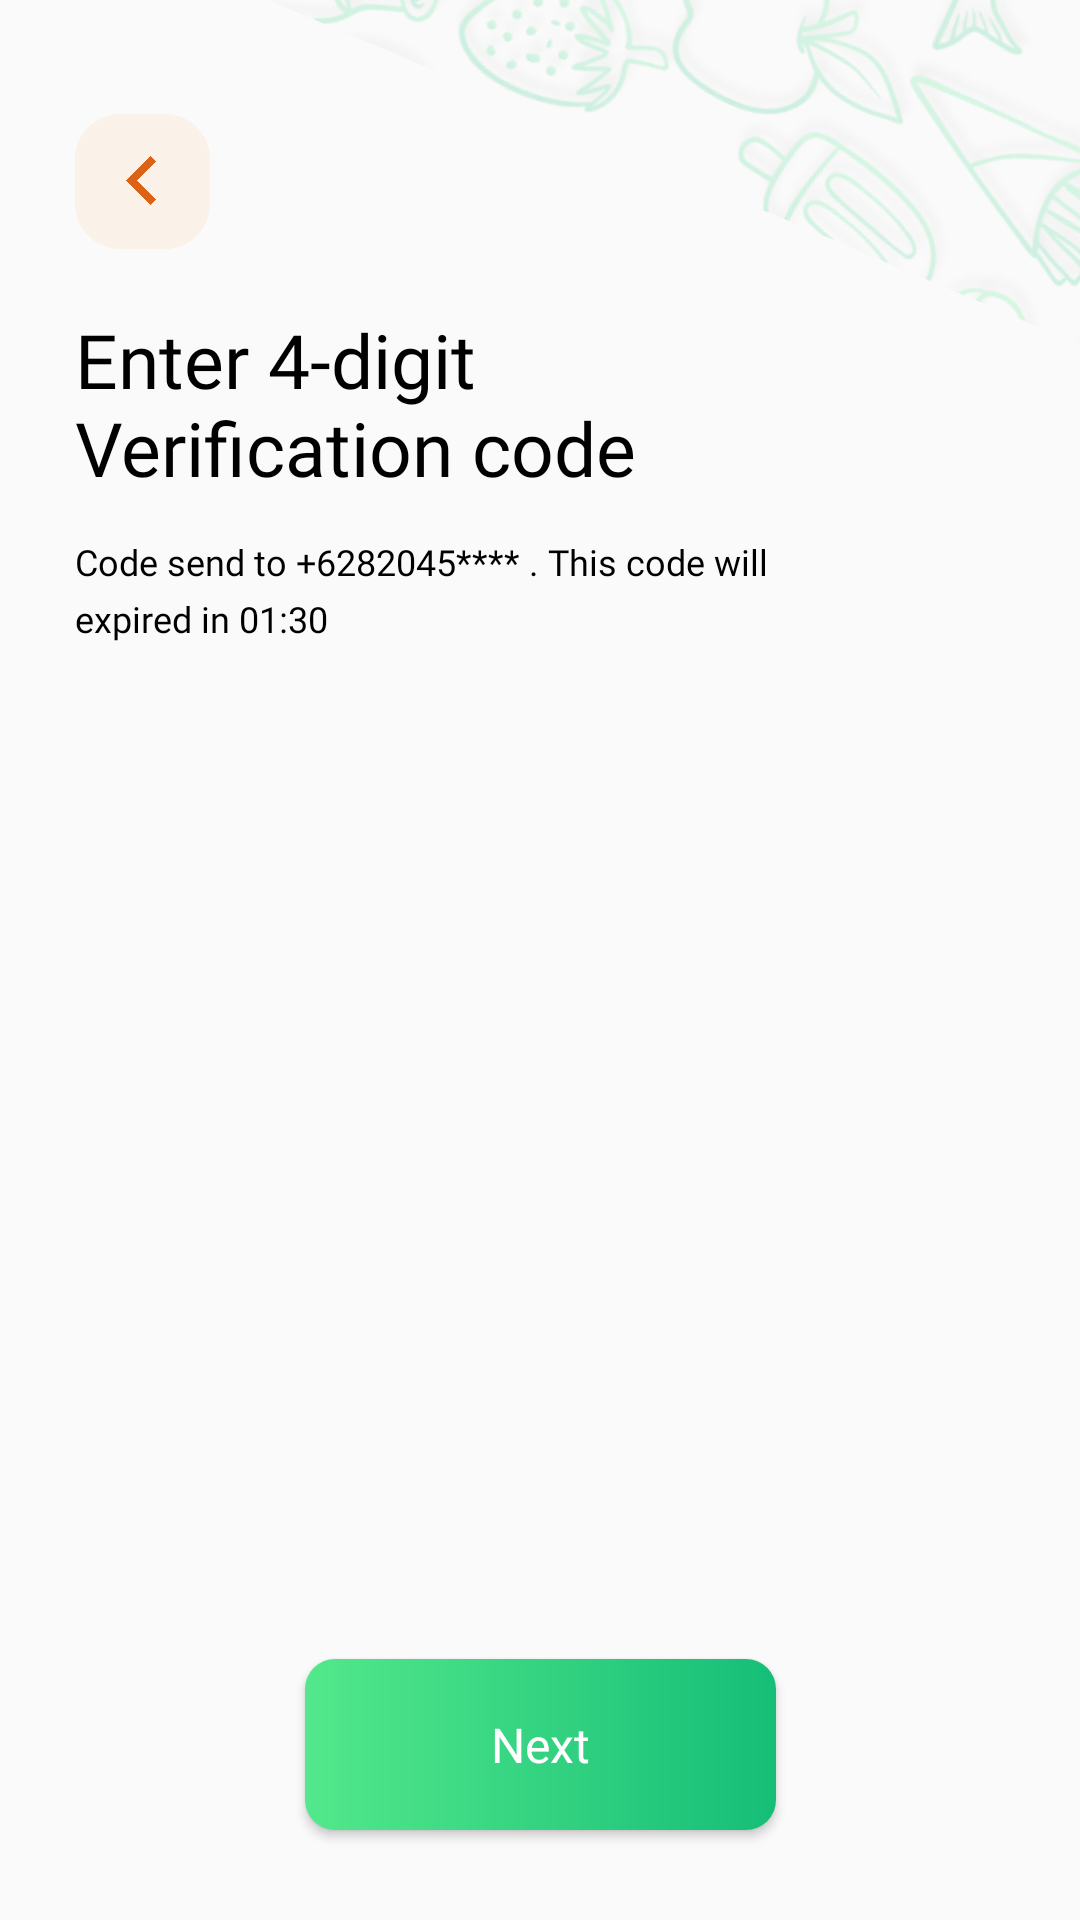

Named icons in this screenshot (1080px x 1920px) and their bounding boxes, BBox(x1, y1, x2, y2):
backicon: BBox(75, 114, 210, 249)
